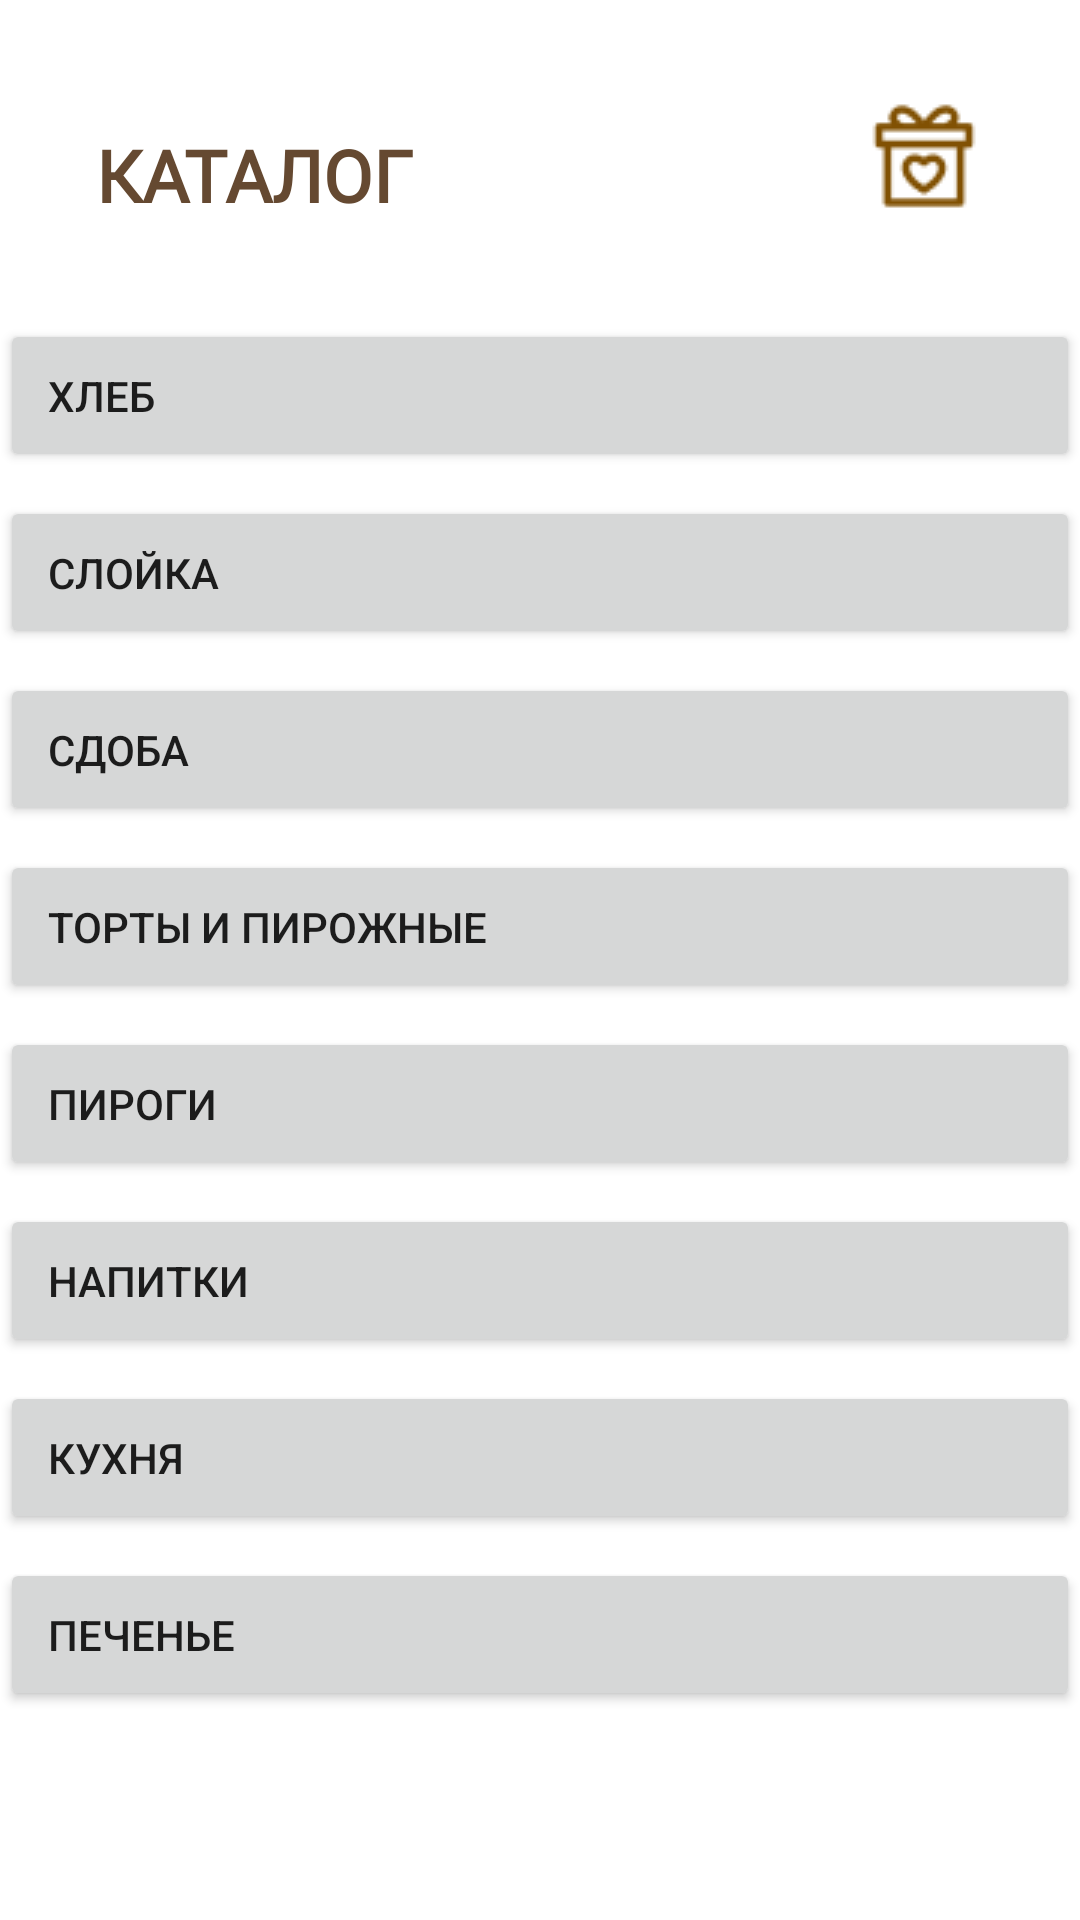

Icon bounding boxes for this 1080 × 1920 phone screenshot, format (x1, y1, x2, y2):
Посмотреть подарок: (873, 104, 975, 208)
